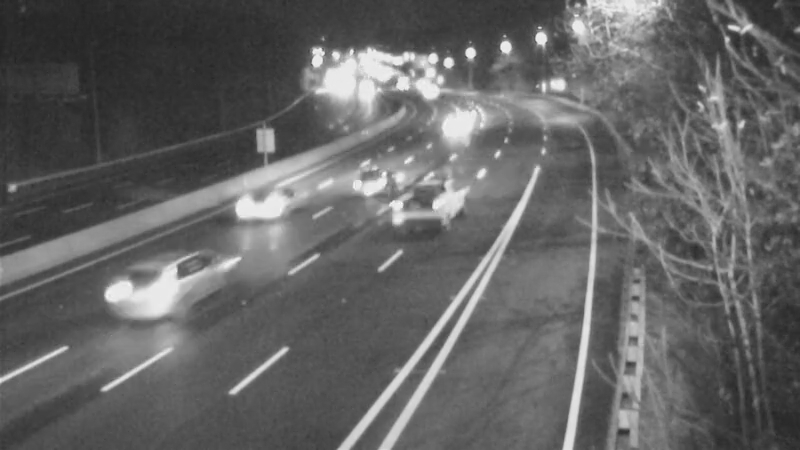vehicle: (319, 143, 399, 223), (381, 171, 461, 251), (216, 171, 296, 251), (98, 254, 178, 334), (1, 147, 66, 227), (402, 68, 452, 118), (448, 84, 498, 134), (429, 98, 479, 148)
